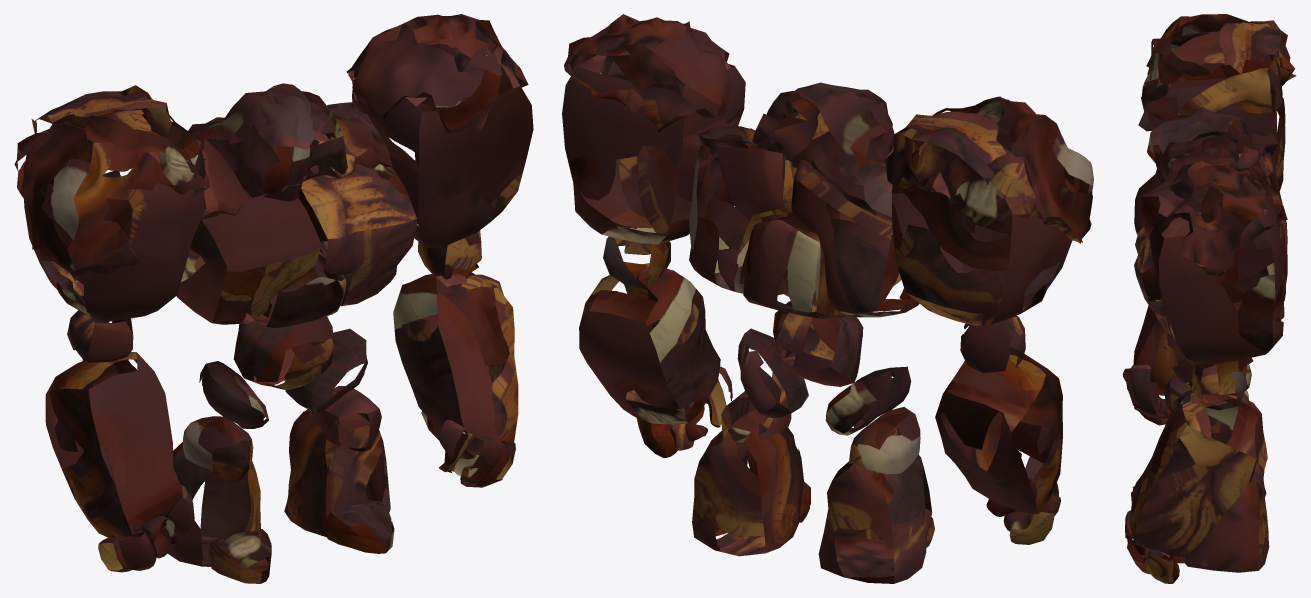
The picture shows the model from 3 angles, left to right: view 1: azimuth 30°, elevation 25°; view 2: azimuth 150°, elevation 25°; view 3: azimuth 270°, elevation 25°; orthographic projection. The views are drawn at different scales.
Parts seen in each view (by area): view 1: mesh_1; view 2: mesh_1; view 3: mesh_1.
Part boxes in pixels (<box>): mesh_1: <box>14,14,533,583</box>; mesh_1: <box>562,14,1093,583</box>; mesh_1: <box>1122,14,1296,583</box>.
Size of the model in its own units: 8.81 by 8.28 by 2.96.
